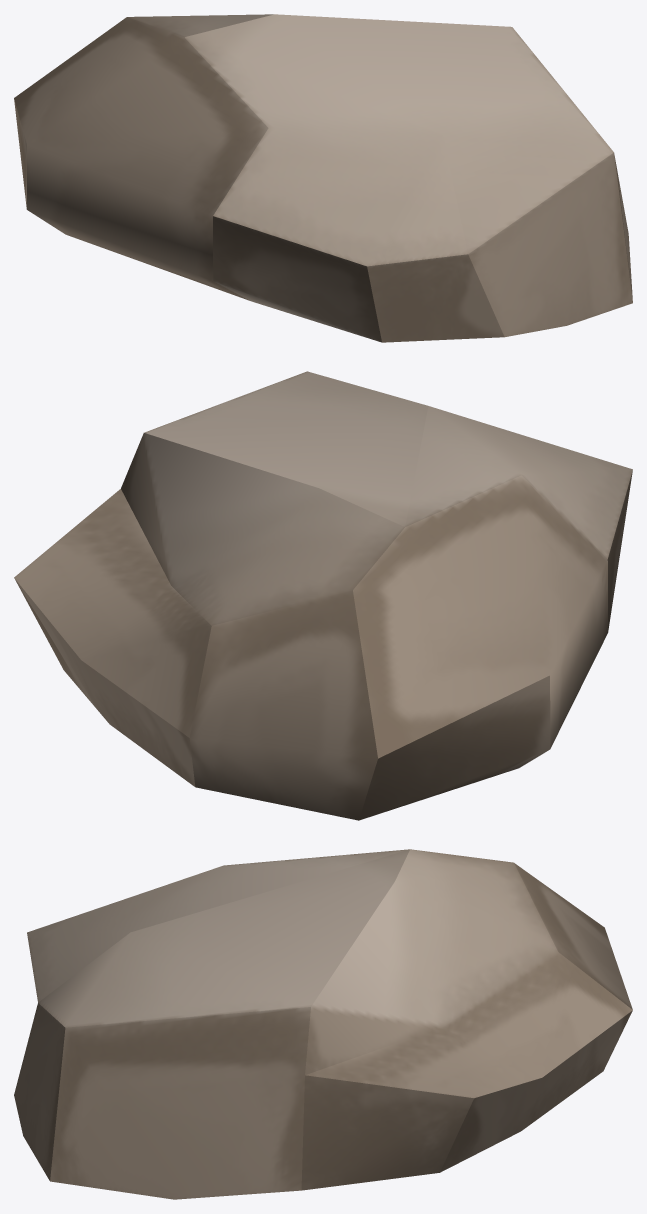
File: M_Stone small.fbx
3 views of the same model, one above another, from view 1: azimuth 30°, elevation 25°; view 2: azimuth 150°, elevation 25°; view 3: azimuth 270°, elevation 25° (orthographic). The views are drawn at different scales.
Parts seen in each view (by area): view 1: M_Stone small; view 2: M_Stone small; view 3: M_Stone small.
Boxes of the visible parts, box(x1,y1,x2,y2) form: M_Stone small: box(14, 14, 632, 342); M_Stone small: box(14, 371, 632, 820); M_Stone small: box(14, 849, 632, 1199).
Bounding box in the file's own units: 0.4469 × 0.392 × 0.168.
1 material, 1 textured.
